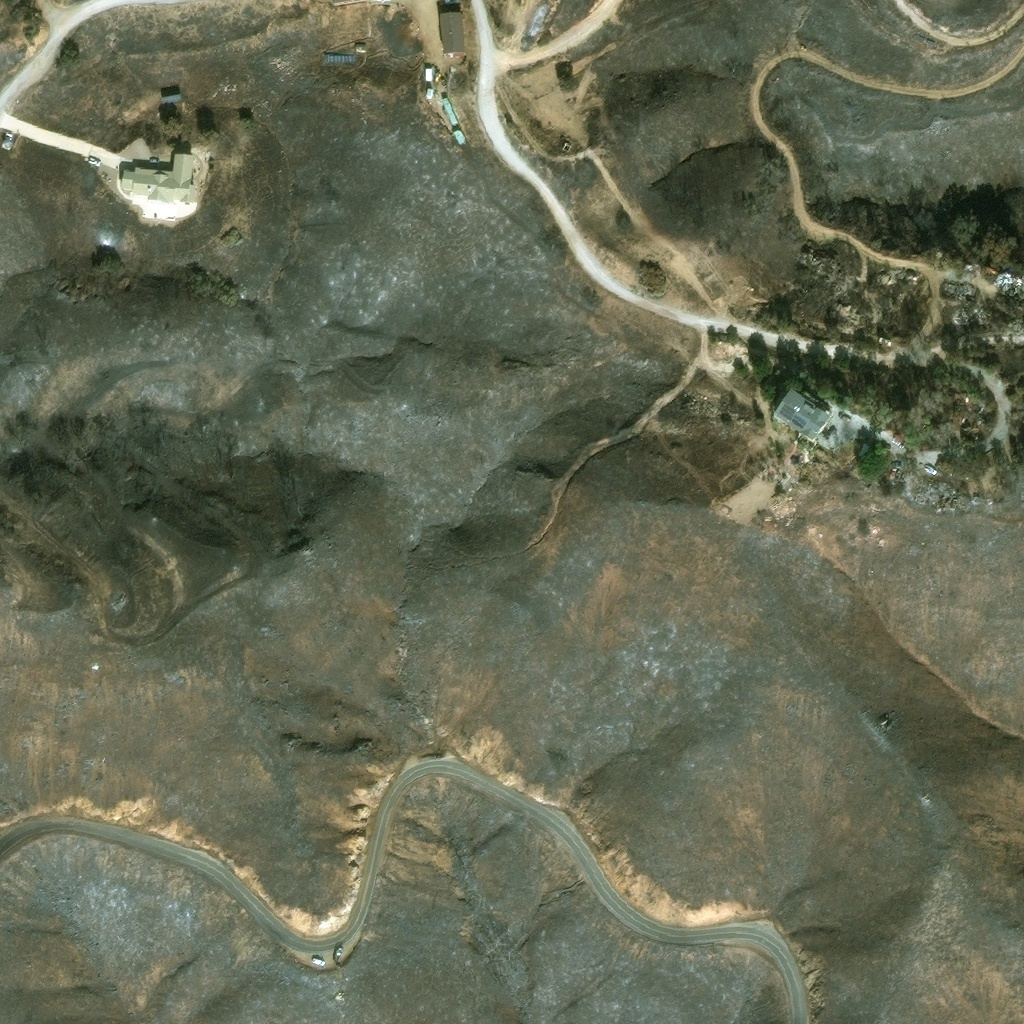0 no-damage: (119, 153, 192, 204), (771, 385, 833, 443), (439, 10, 464, 53), (439, 96, 458, 123), (450, 126, 467, 144), (330, 0, 364, 6), (423, 67, 431, 80), (354, 40, 365, 47)
3 destroyed: (998, 269, 1017, 287), (924, 477, 942, 490), (109, 592, 125, 606), (971, 495, 978, 503)
4 un-classified: (3, 138, 11, 146)
